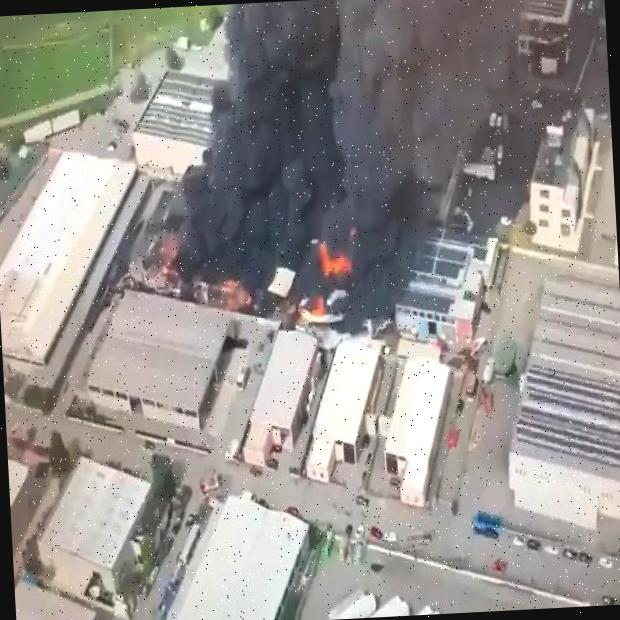smoke: (191, 0, 541, 197), (166, 194, 320, 308), (349, 202, 426, 344), (317, 235, 353, 321)
